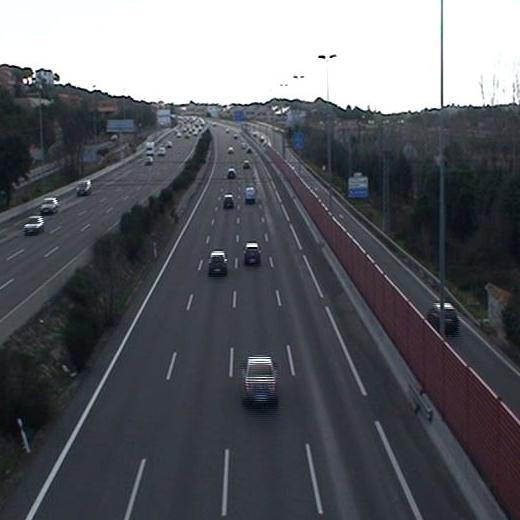car: (244, 356, 276, 402), (209, 251, 227, 277), (244, 243, 261, 265), (222, 193, 236, 207), (226, 168, 237, 180)
van: (245, 187, 254, 203)
